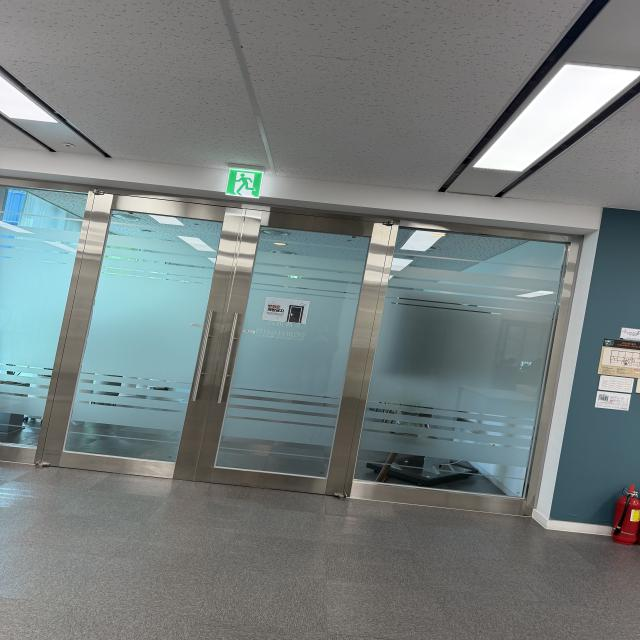front_door: (6, 179, 584, 525)
